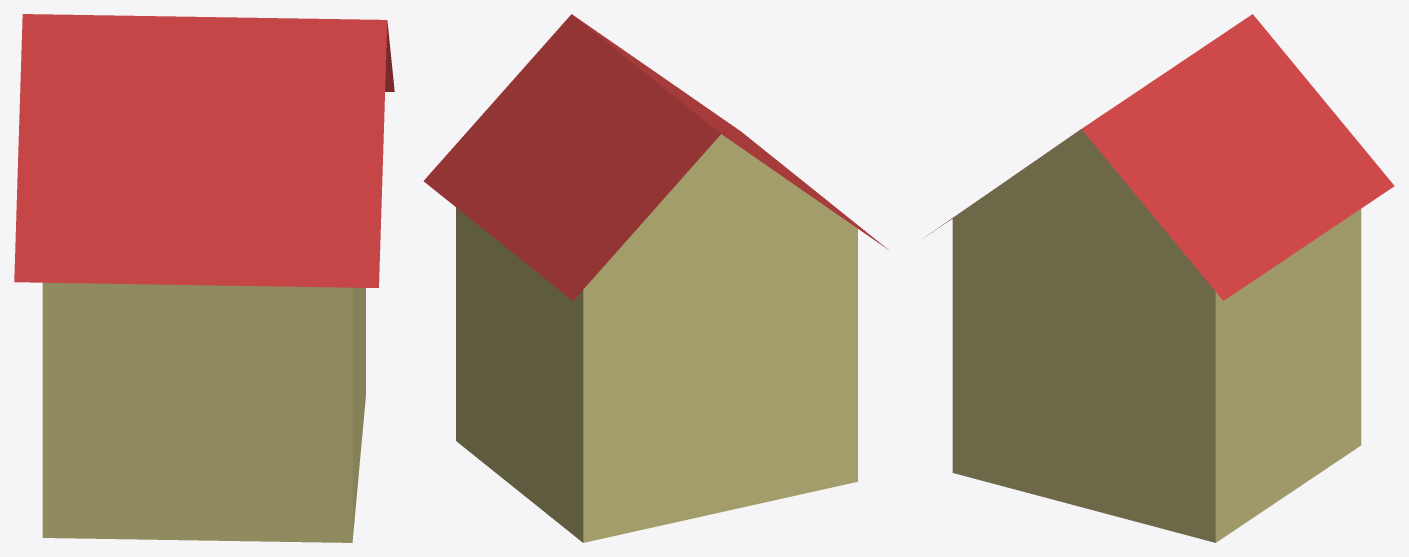
3 views of the same model, side by side, from view 1: azimuth 30°, elevation 25°; view 2: azimuth 150°, elevation 25°; view 3: azimuth 270°, elevation 25° (orthographic). The views are drawn at different scales.
Parts seen in each view (by area): view 1: group_3, group_5, group_4; view 2: group_5, group_3, group_4; view 3: group_5, group_3, group_4.
Boxes of the visible parts, left/top/right/bottom form: group_3: left=14, top=14, right=387, bottom=287; group_5: left=42, top=282, right=365, bottom=542; group_4: left=14, top=14, right=394, bottom=285; group_5: left=456, top=134, right=857, bottom=542; group_3: left=423, top=14, right=884, bottom=300; group_4: left=526, top=14, right=888, bottom=249; group_5: left=952, top=129, right=1361, bottom=542; group_3: left=1082, top=15, right=1394, bottom=300; group_4: left=927, top=14, right=1296, bottom=235.
Size of the model in its own units: 14.33 by 14.69 by 13.31.
